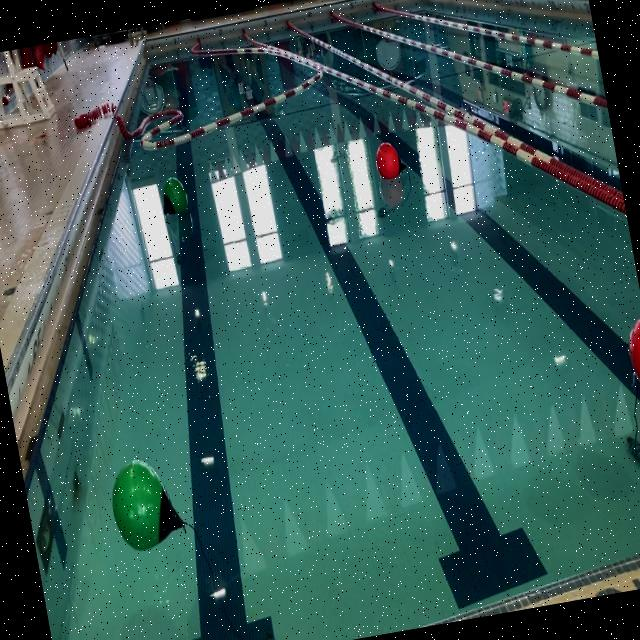buoy: (104, 449, 192, 556), (620, 312, 640, 394), (373, 138, 408, 182), (158, 175, 190, 221)
